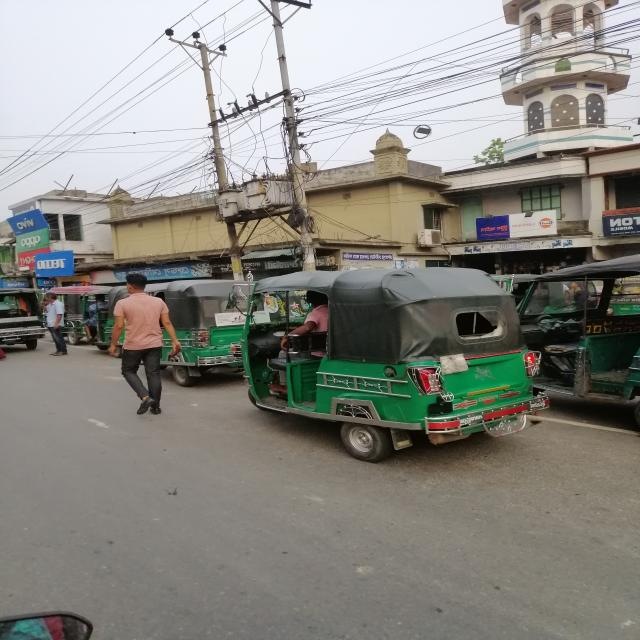CNG: (227, 269, 552, 470)
